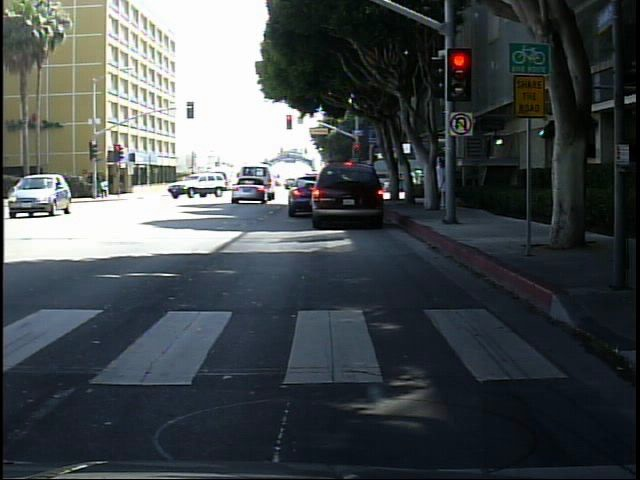person: (436, 154, 454, 216), (99, 177, 111, 200)
